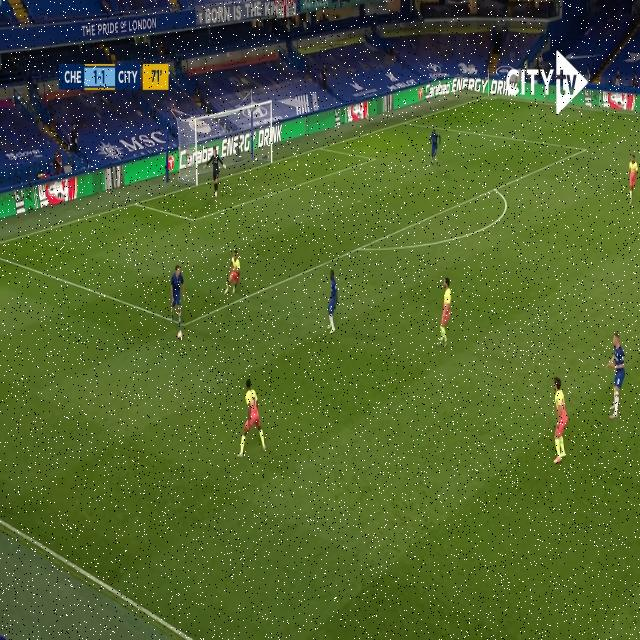Ball: (174, 329, 183, 342)
GoalKeeper: (210, 151, 223, 198)
TEAM 1: (238, 380, 268, 460), (550, 379, 569, 466), (439, 277, 453, 351), (225, 251, 241, 296)
TEAM 2: (604, 333, 626, 421), (168, 266, 185, 336), (324, 269, 339, 334), (628, 154, 638, 206), (430, 129, 442, 165)
